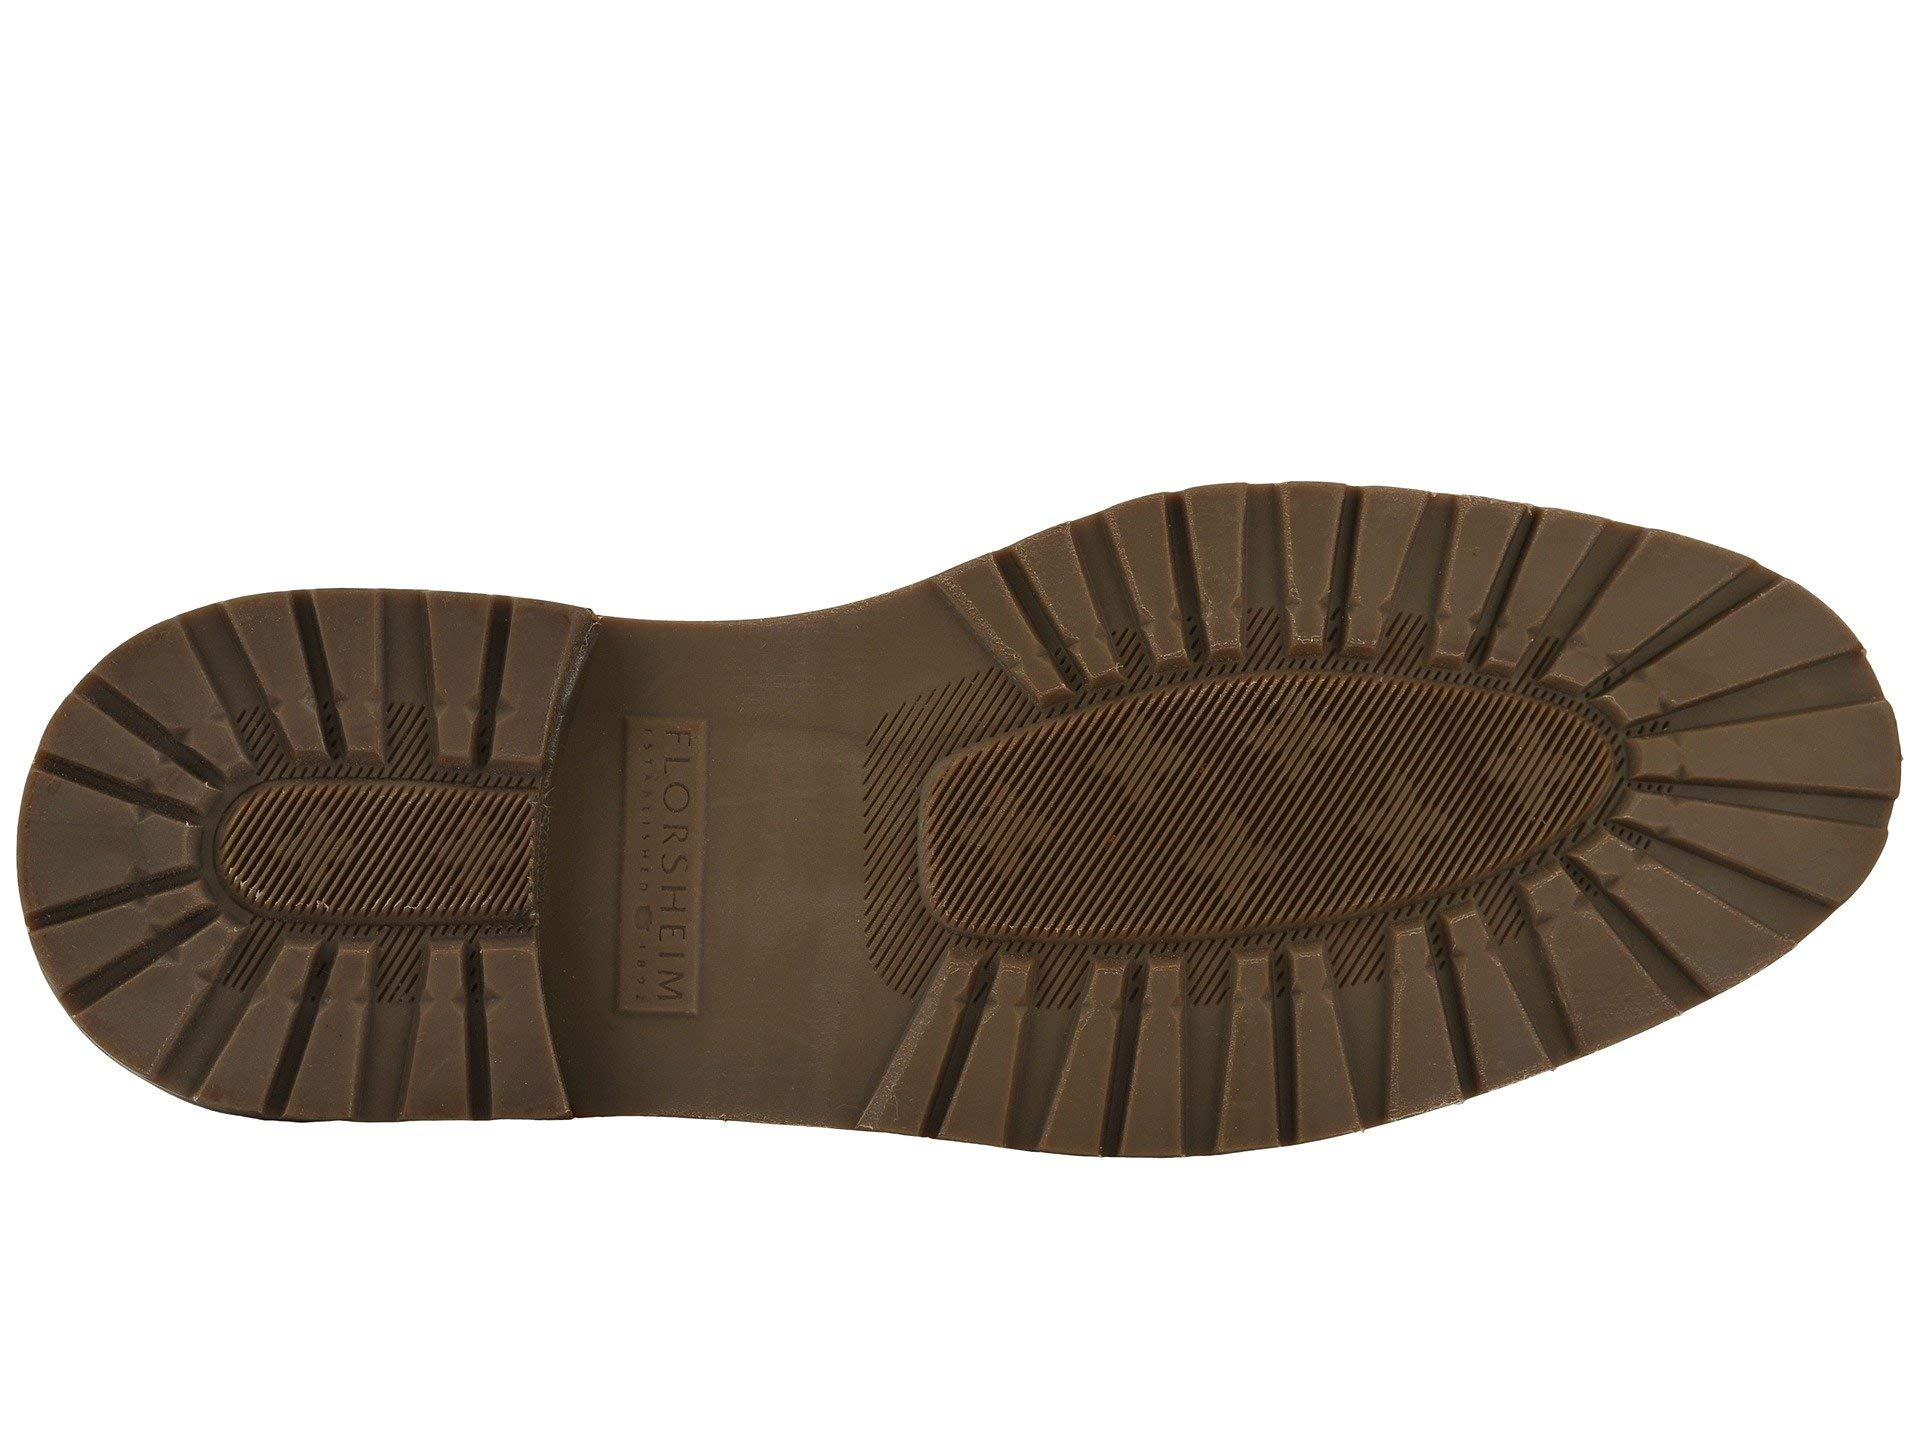circle: (584, 682, 754, 1039)
line: (966, 691, 1524, 908), (224, 771, 584, 929), (848, 712, 915, 989)
quad: (584, 682, 754, 1039)
star: (966, 691, 1524, 908), (224, 771, 584, 929)
text: (584, 682, 754, 1039), (766, 620, 848, 703)
